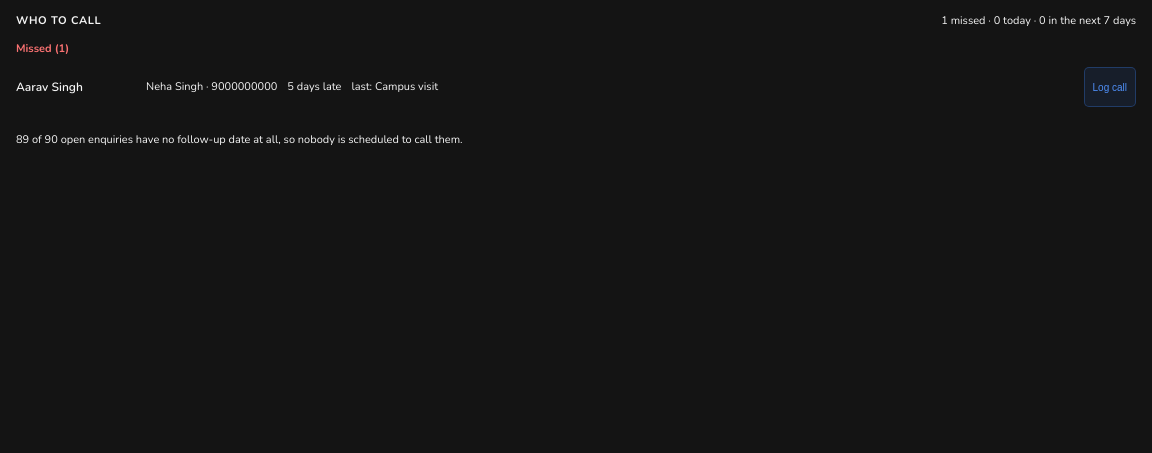
Test: logging a call sends the note and the next date to the one activity route
This screenshot has width=1152, height=453.
Click the button "Log call" at [1110, 87], box [1084,67,1136,107]
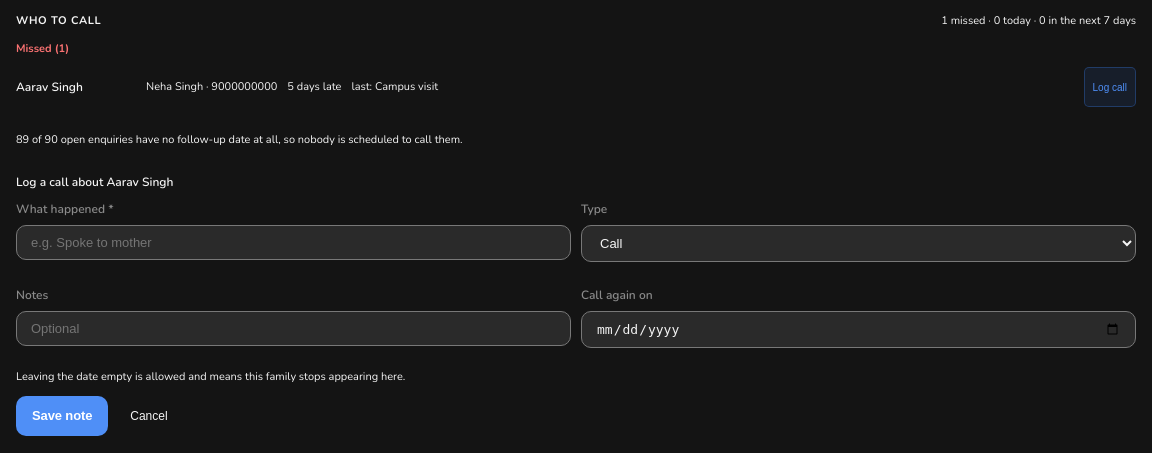
Type "Spoke to mother" into the field labelled "What happened *" at [294, 243], box [16,225,571,260]
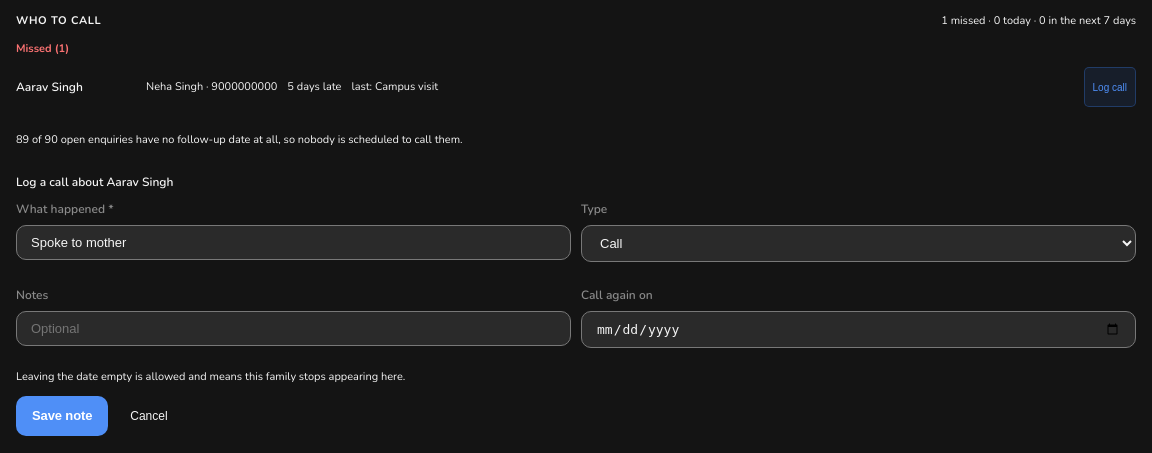
Type "2026-08-20" into the date field labelled "Call again on" at [858, 330], box [581,311,1136,348]
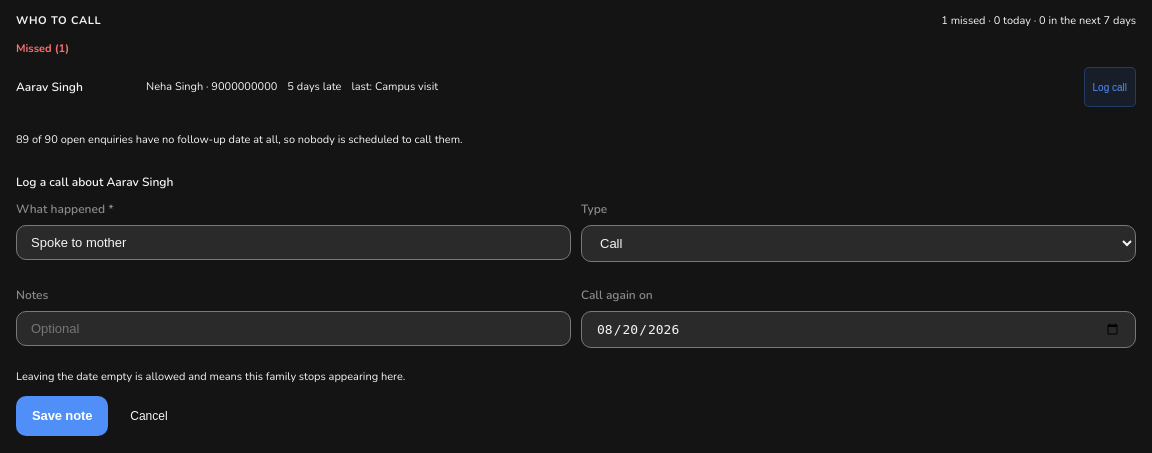
Click the button "Save note" at [62, 416], box [16,396,108,436]
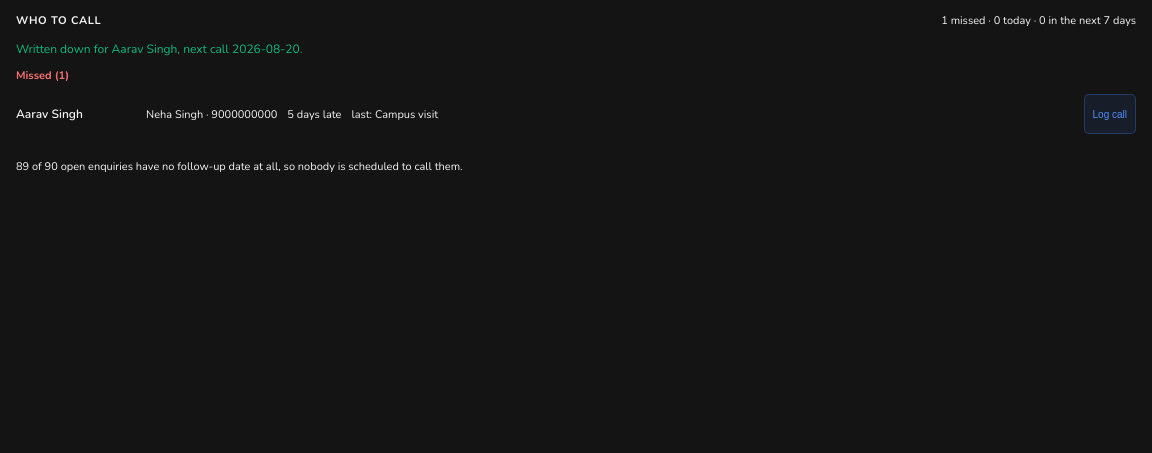
Expected: the text "Written down for Aarav Singh, next call 2026-08-20." is shown, [16,41,302,57]
